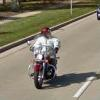Motorcycle: (20, 42, 71, 96)
